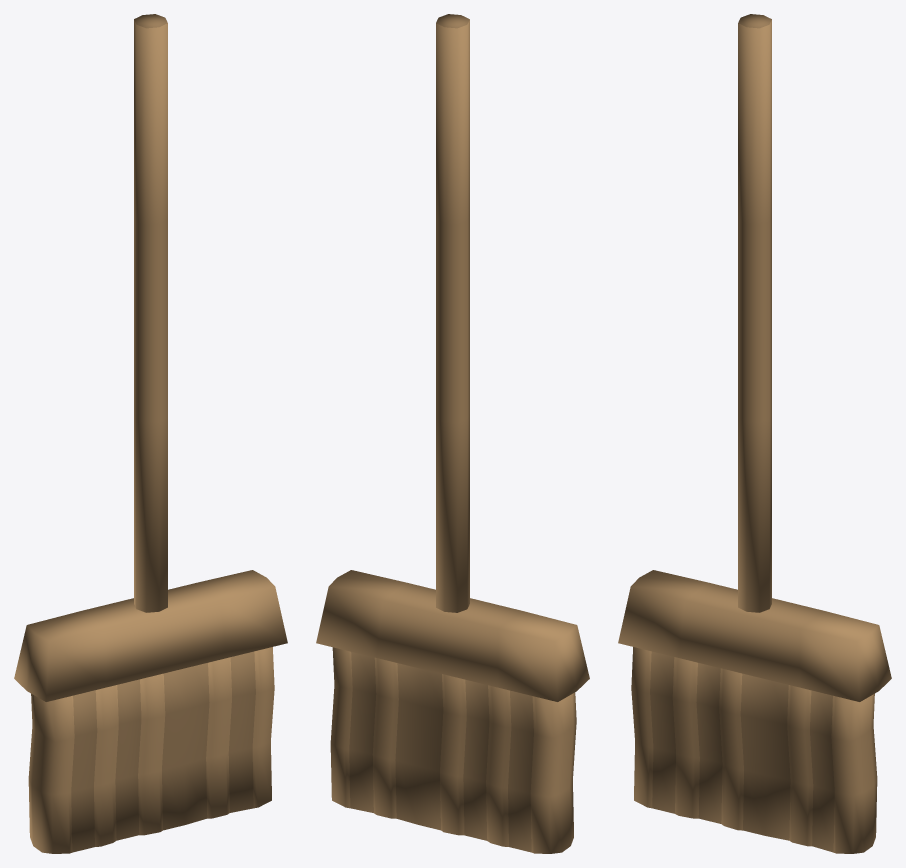
The model's file is broom.fbx.
The picture shows the model from 3 angles, left to right: view 1: azimuth 30°, elevation 25°; view 2: azimuth 150°, elevation 25°; view 3: azimuth 330°, elevation 25°; orthographic projection.
Visible parts, largest first — view 1: Cube.167; view 2: Cube.167; view 3: Cube.167.
Part boxes in pixels (bbox=[...]): Cube.167: bbox=[14, 14, 287, 853]; Cube.167: bbox=[316, 14, 589, 853]; Cube.167: bbox=[618, 14, 891, 853].
Bounding box in the file's own units: 38.08 × 117 × 8.53.
